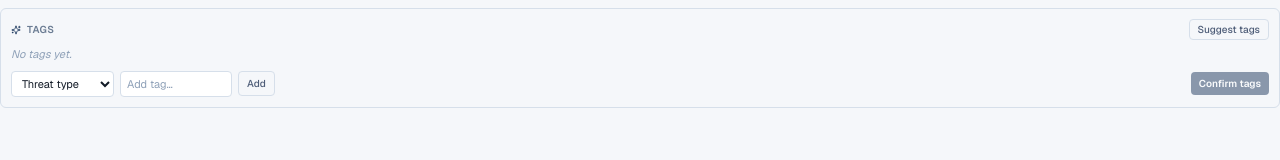
Scenario: ScenarioTags › explicit confirm drops the AI badge (tags become confirmed)
Click the button "Suggest tags" at (1229, 30), box [1188,19,1269,40]
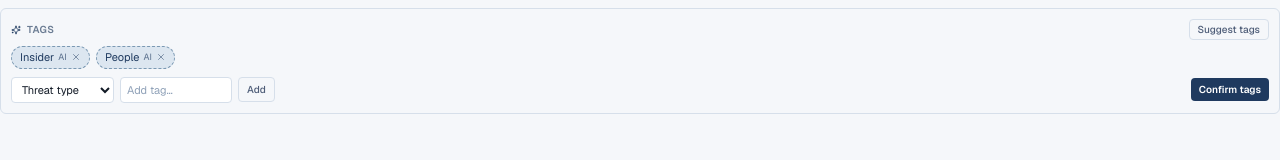
Result: the text "Insider" is shown at [20,50,54,64]
Click the button "Confirm tags" at (1230, 90), box [1191,78,1269,101]
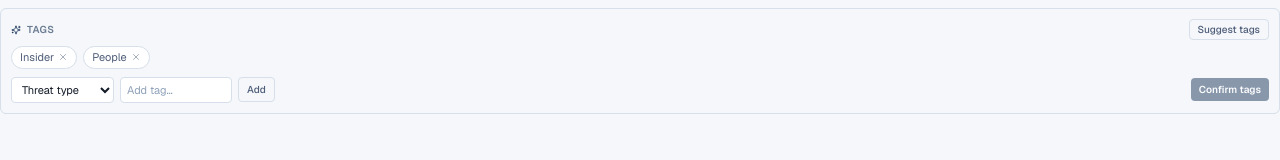
Result: the text "Insider" is shown at [11,46,77,68]
Result: no elements labelled "AI-suggested" are shown
